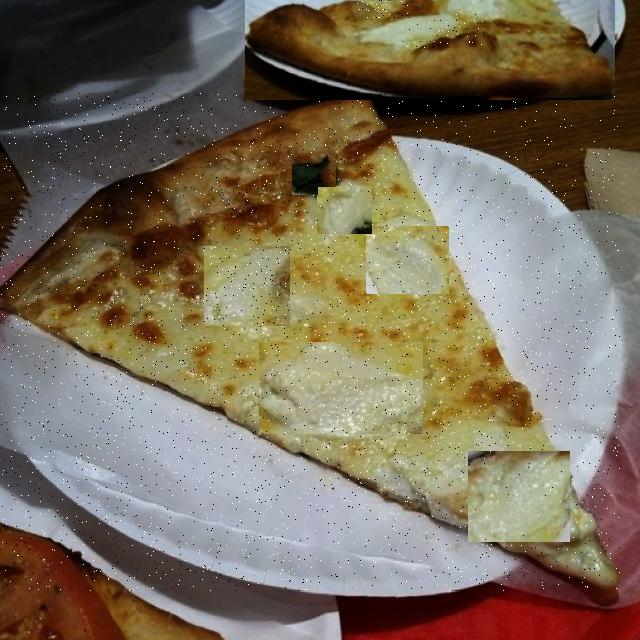Basil: (293, 154, 336, 195)
Cheese: (260, 344, 423, 436), (469, 452, 572, 542), (205, 247, 290, 326), (367, 227, 449, 294), (400, 13, 492, 48), (318, 187, 372, 234), (357, 0, 413, 19)
Pizza: (0, 93, 620, 591), (246, 0, 614, 100)
